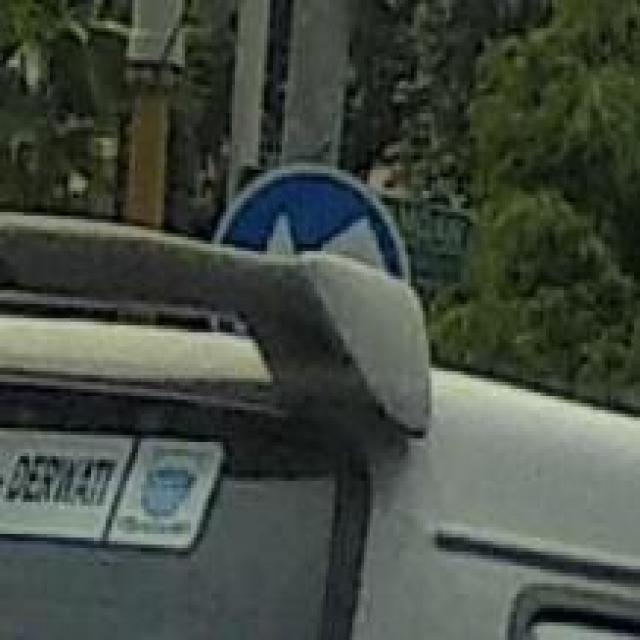traffic sign: (220, 177, 411, 269)
